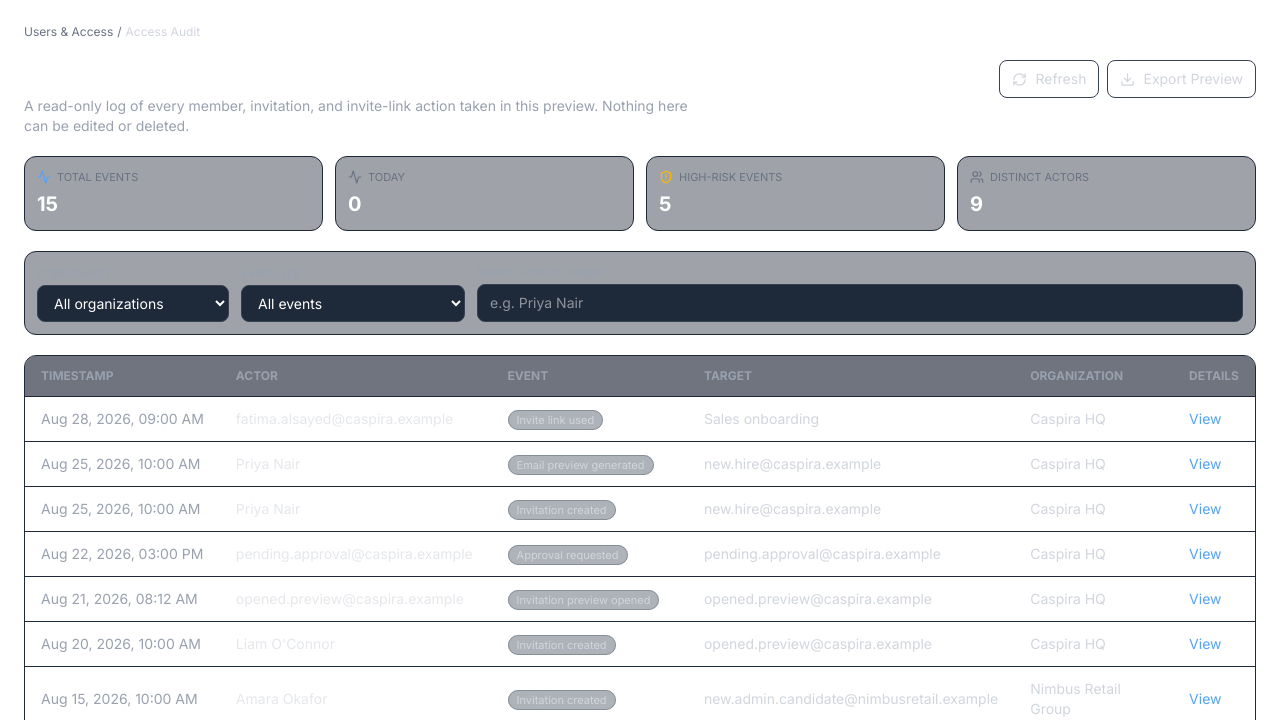
Scenario: AccessAudit › opens the read-only detail view for an event
Click the button "View" in the row of "Email preview generated": (1205, 464) [1189,454,1222,474]
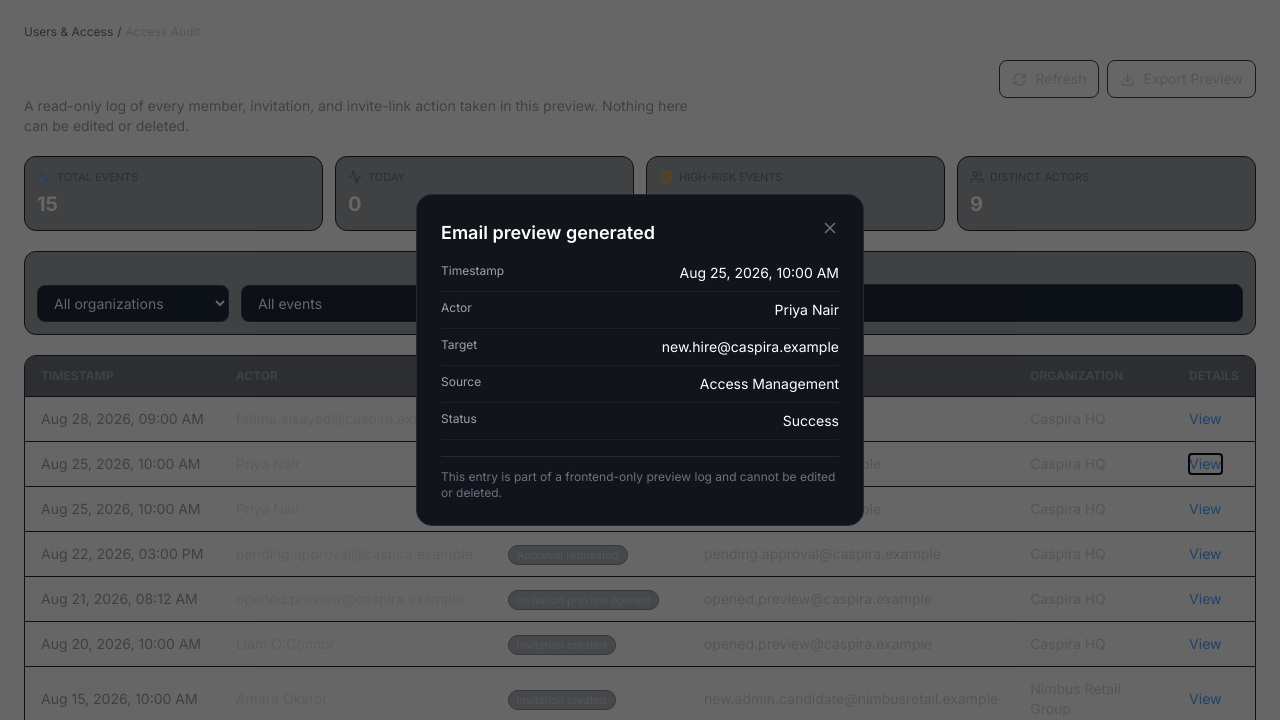
Now the text "frontend-only preview log and cannot be edited or deleted" is shown, box [441,469,835,500]
